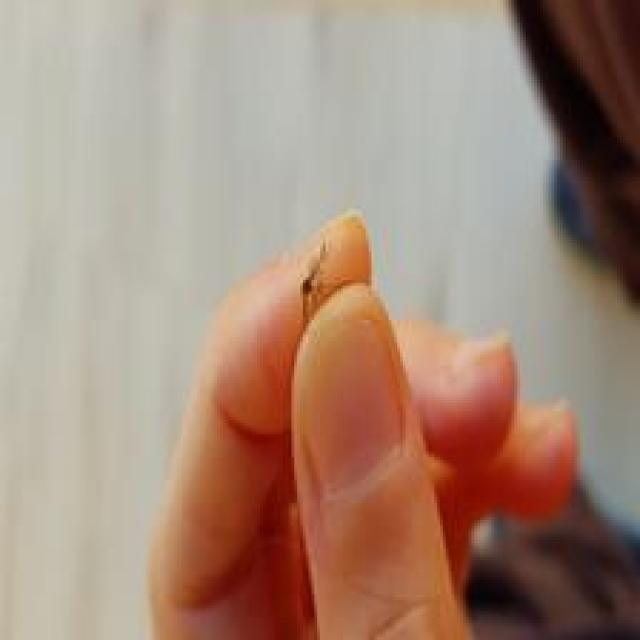Culex: (286, 211, 580, 640)
